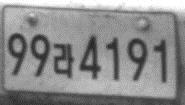1: (152, 37, 170, 84), (105, 37, 120, 81)
4: (77, 34, 102, 80)
9: (125, 36, 148, 82), (28, 33, 51, 78), (6, 32, 28, 77)
라: (52, 42, 76, 79)
